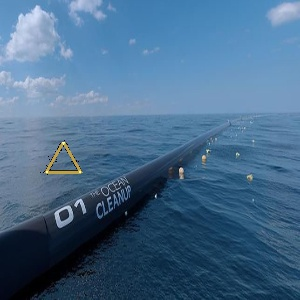triangle: (42, 138, 86, 176)
